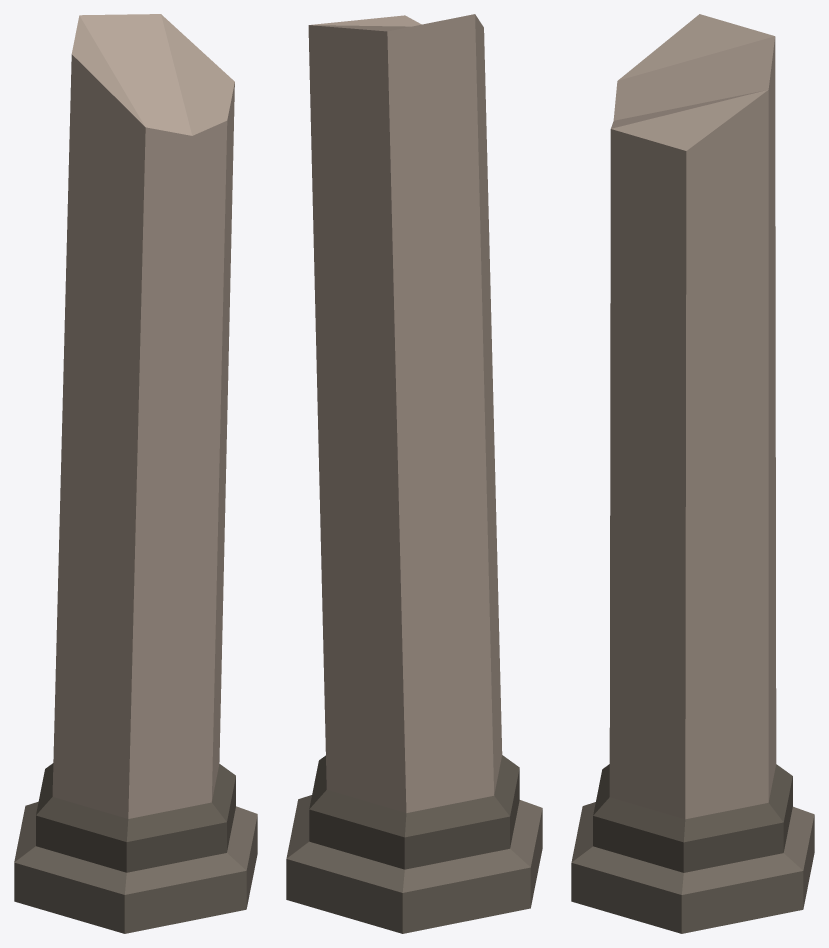
The model's file is SM_Bld_Ruins_05.fbx.
3 views of the same model, side by side, from view 1: azimuth 30°, elevation 25°; view 2: azimuth 150°, elevation 25°; view 3: azimuth 270°, elevation 25° (orthographic). The views are drawn at different scales.
Visible parts, largest first — view 1: SM_Bld_Ruins_05; view 2: SM_Bld_Ruins_05; view 3: SM_Bld_Ruins_05.
Boxes of the visible parts, box(x1,y1,x2,y2) form: SM_Bld_Ruins_05: box(14, 14, 257, 933); SM_Bld_Ruins_05: box(286, 14, 542, 933); SM_Bld_Ruins_05: box(571, 14, 814, 933).
Bounding box in the file's own units: 129 × 442 × 117.
